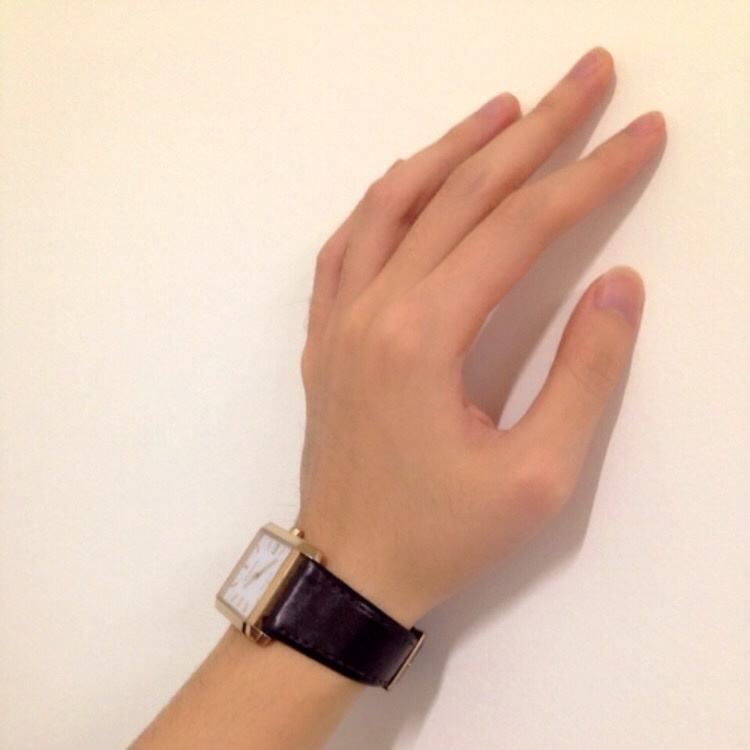no-phone: (292, 40, 672, 601)
